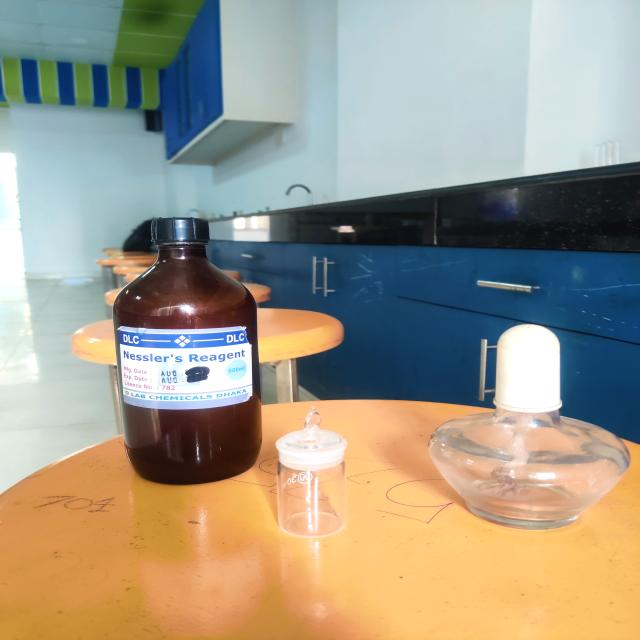Nessler_Reagent_Bottle: (94, 202, 284, 506)
Spirit_Lamp: (420, 315, 640, 555)
Weighing_Bottle: (267, 408, 369, 549)
